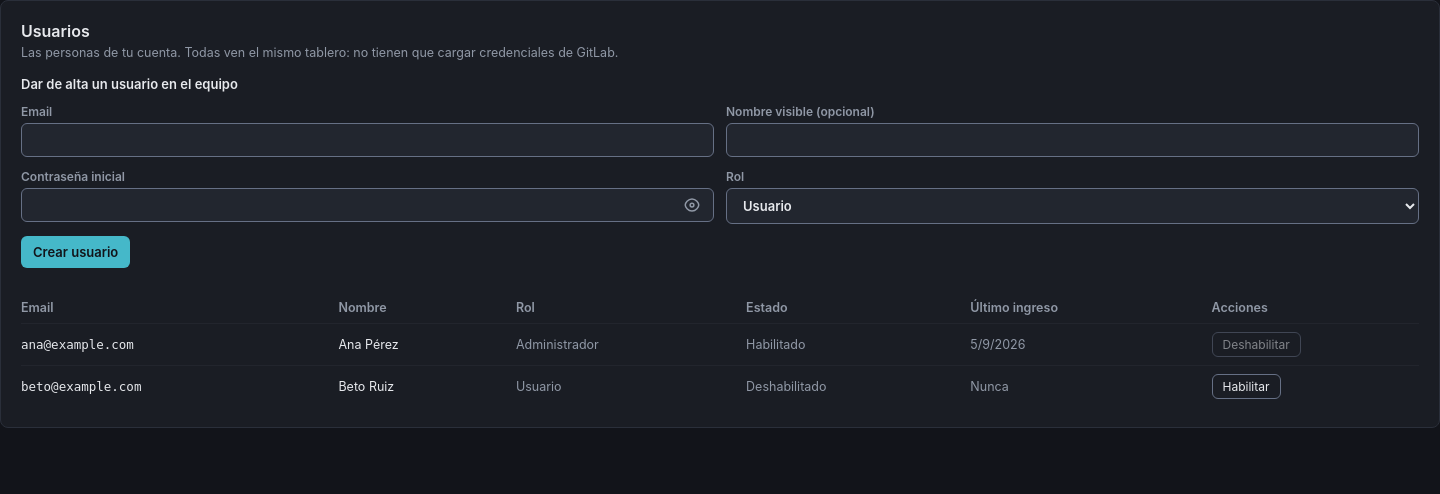
alta de usuarios › confirma el alta y limpia el formulario
In the field labelled "Email": (368, 140) [21,123,714,157], type "zoe@example.com"
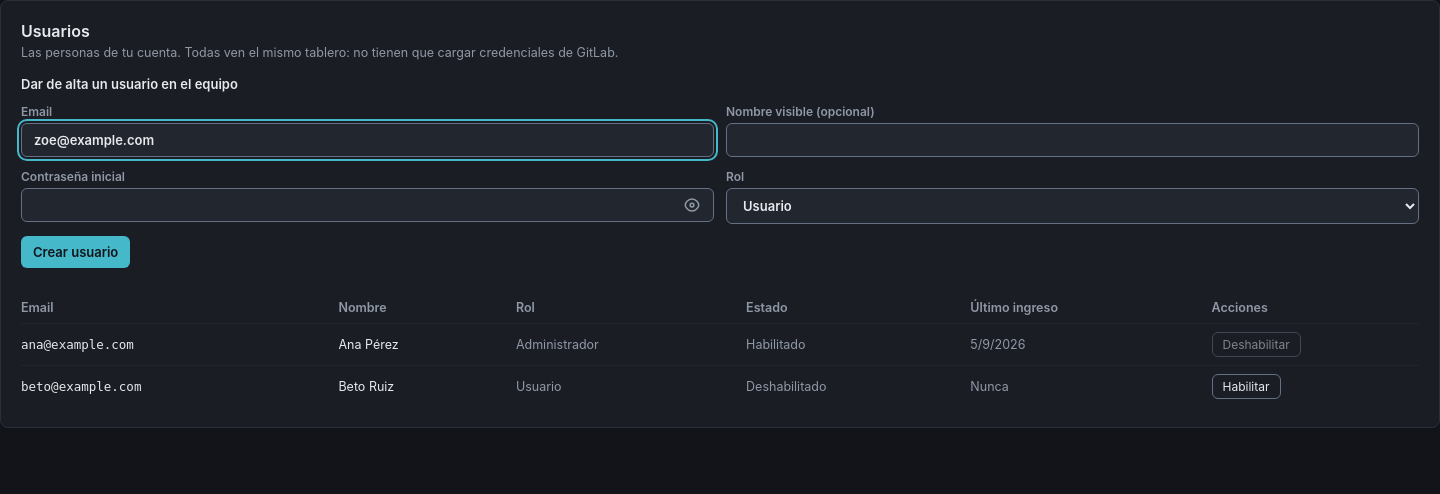
In the password field labelled "Contraseña inicial": (368, 205) [21,188,714,222], type "contrasena-de-prueba"
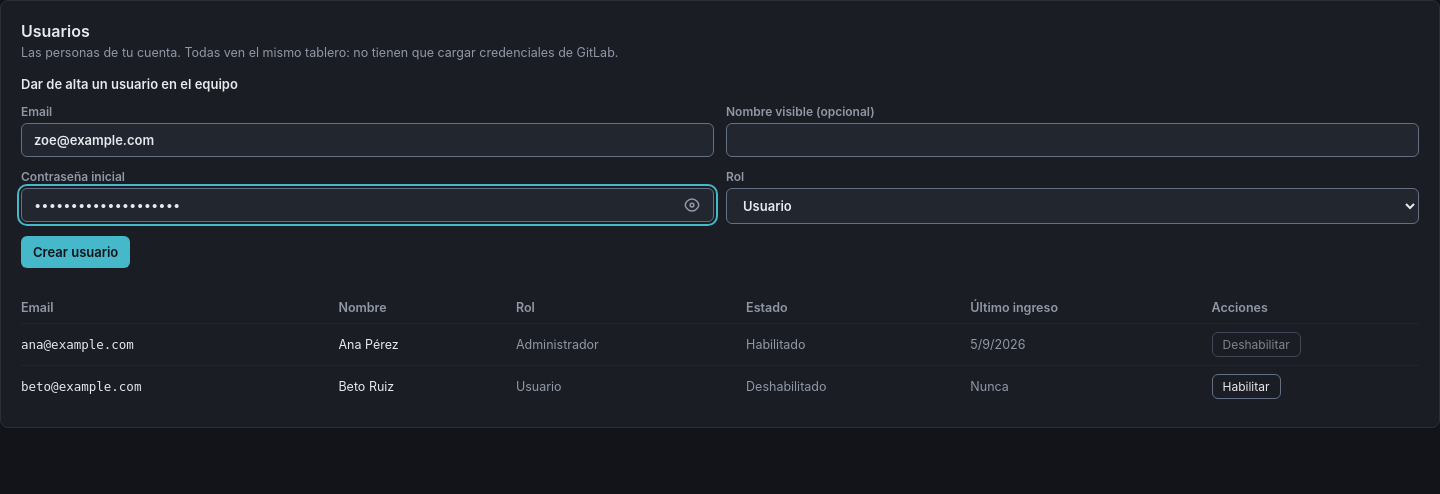
Click the button "Crear usuario": (76, 252) [21,236,130,268]
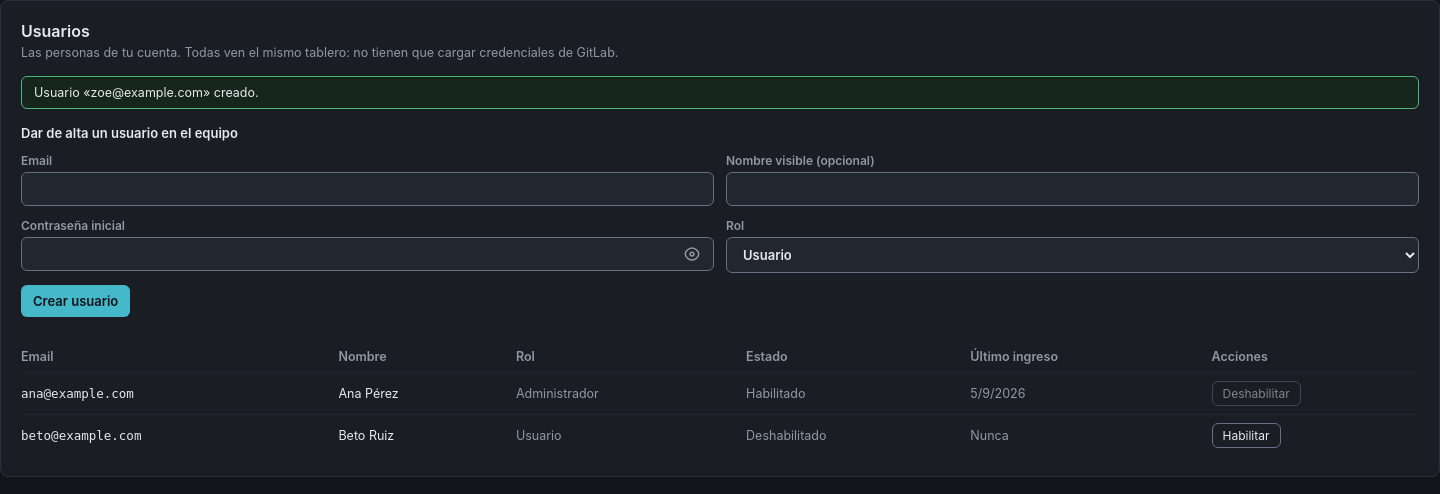
Expected: the message reads "Usuario «zoe@example.com» creado.", [34,85,259,100]
Expected: the field labelled "Email" is empty, [21,172,714,206]
